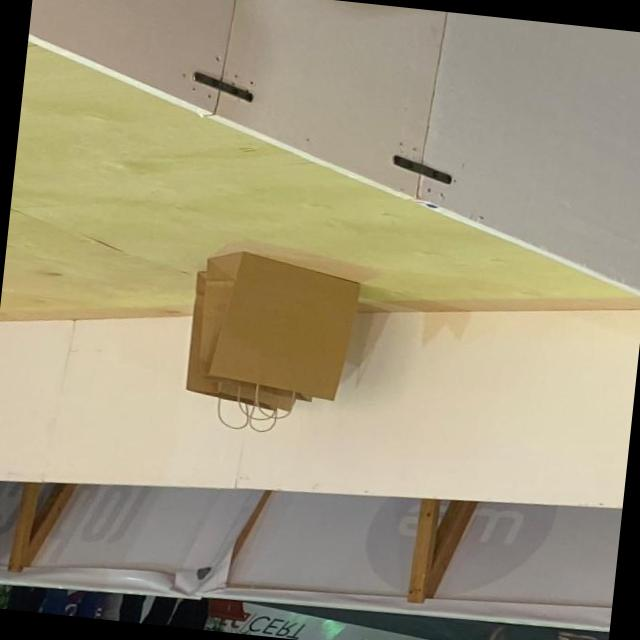Kardus: (178, 247, 363, 443)
